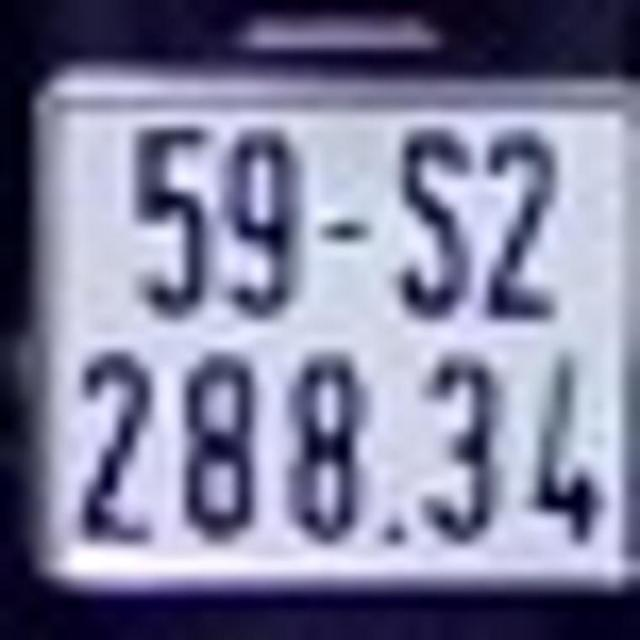2: (478, 114, 572, 321), (84, 346, 152, 549)
3: (418, 346, 497, 544)
4: (528, 336, 599, 555)
5: (132, 120, 207, 323)
8: (283, 337, 376, 554), (177, 339, 259, 543)
9: (222, 114, 302, 321)
S: (396, 128, 472, 314)
